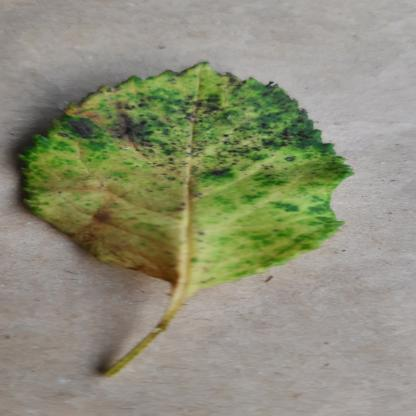black-spot: (19, 61, 362, 286)
